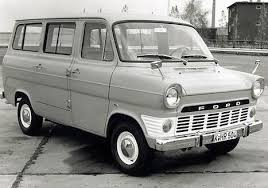van: (2, 15, 265, 177)
